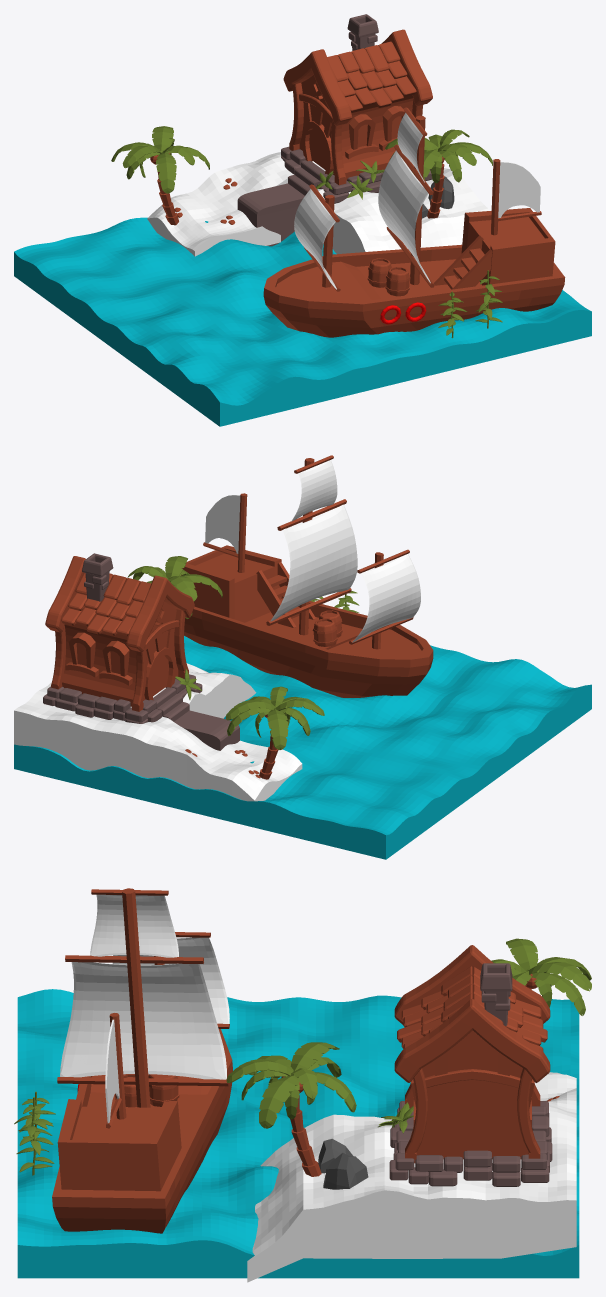
The model's file is Beach_Low_Poly_Cartoon_FREE.glb.
3 renders of one model, top to bottom at view 1: azimuth 30°, elevation 25°; view 2: azimuth 150°, elevation 25°; view 3: azimuth 270°, elevation 25°, orthographic. The views are drawn at different scales.
Visible parts, largest first — view 1: Sea (Laut)_Sea (Laut)_0, Ship (Perahu)_Kapal_0, Pasir (Sand)__0, House Border (Tralis)_GentengTralisWarna_0, Rock Foundation (Fondasi)_Warna Batu_0, Roof (Genteng)_Genteng_0, Sail1__0, House Wall (Tembok Rumah)_TembokRumah_0, CoconutLeave2 (Daunkelapa2)_Taneman_0, CoconutLeave1(Daun kelapa)_Taneman_0, Sail3__0, SailTail (Bendera)__0 (+6 smaller); view 2: Sea (Laut)_Sea (Laut)_0, Ship (Perahu)_Kapal_0, Pasir (Sand)__0, House Border (Tralis)_GentengTralisWarna_0, Sail1__0, Rock Foundation (Fondasi)_Warna Batu_0, House Wall (Tembok Rumah)_TembokRumah_0, Roof (Genteng)_Genteng_0, Sail3__0, CoconutLeave2 (Daunkelapa2)_Taneman_0, Sail2__0, SailTail (Bendera)__0 (+3 smaller); view 3: Sea (Laut)_Sea (Laut)_0, Pasir (Sand)__0, Ship (Perahu)_Kapal_0, Sail1__0, House Border (Tralis)_GentengTralisWarna_0, House Wall (Tembok Rumah)_TembokRumah_0, Rock Foundation (Fondasi)_Warna Batu_0, CoconutLeave1(Daun kelapa)_Taneman_0, Roof (Genteng)_Genteng_0, Sail2__0, CoconutLeave2 (Daunkelapa2)_Taneman_0, Sail3__0 (+8 smaller).
Part boxes in pixels (x1,y1,x2,y2): Sea (Laut)_Sea (Laut)_0: (14,217,591,426); Ship (Perahu)_Kapal_0: (263,107,565,337); Pasir (Sand)__0: (147,152,488,256); House Border (Tralis)_GentengTralisWarna_0: (283,29,432,185); Rock Foundation (Fondasi)_Warna Batu_0: (237,146,432,246); Roof (Genteng)_Genteng_0: (327,41,416,112); Sail1__0: (378,150,430,283); House Wall (Tembok Rumah)_TembokRumah_0: (299,70,413,180); CoconutLeave2 (Daunkelapa2)_Taneman_0: (111,126,209,193); CoconutLeave1(Daun kelapa)_Taneman_0: (385,129,492,183); Sail3__0: (294,189,336,289); SailTail (Bendera)__0: (498,161,540,217); Sea (Laut)_Sea (Laut)_0: (14,636,591,859); Ship (Perahu)_Kapal_0: (181,455,433,697); Pasir (Sand)__0: (14,663,302,801); House Border (Tralis)_GentengTralisWarna_0: (45,556,194,711); Sail1__0: (270,504,357,621); Rock Foundation (Fondasi)_Warna Batu_0: (43,674,239,750); House Wall (Tembok Rumah)_TembokRumah_0: (62,600,178,706); Roof (Genteng)_Genteng_0: (61,572,151,636); Sail3__0: (352,554,420,642); CoconutLeave2 (Daunkelapa2)_Taneman_0: (226,686,324,749); Sail2__0: (291,460,337,521); SailTail (Bendera)__0: (205,495,240,553); Sea (Laut)_Sea (Laut)_0: (17,989,579,1278); Pasir (Sand)__0: (247,1072,576,1282); Ship (Perahu)_Kapal_0: (52,888,232,1233); Sail1__0: (60,962,226,1079); House Border (Tralis)_GentengTralisWarna_0: (394,945,550,1163); House Wall (Tembok Rumah)_TembokRumah_0: (416,977,528,1159); Rock Foundation (Fondasi)_Warna Batu_0: (389,1101,552,1186); CoconutLeave1(Daun kelapa)_Taneman_0: (226,1042,356,1128); Roof (Genteng)_Genteng_0: (397,966,547,1051); Sail2__0: (90,894,178,957); CoconutLeave2 (Daunkelapa2)_Taneman_0: (491,938,591,1015); Sail3__0: (112,937,229,1023).
Bounding box in the file's own units: 5600 × 3202 × 5510.
